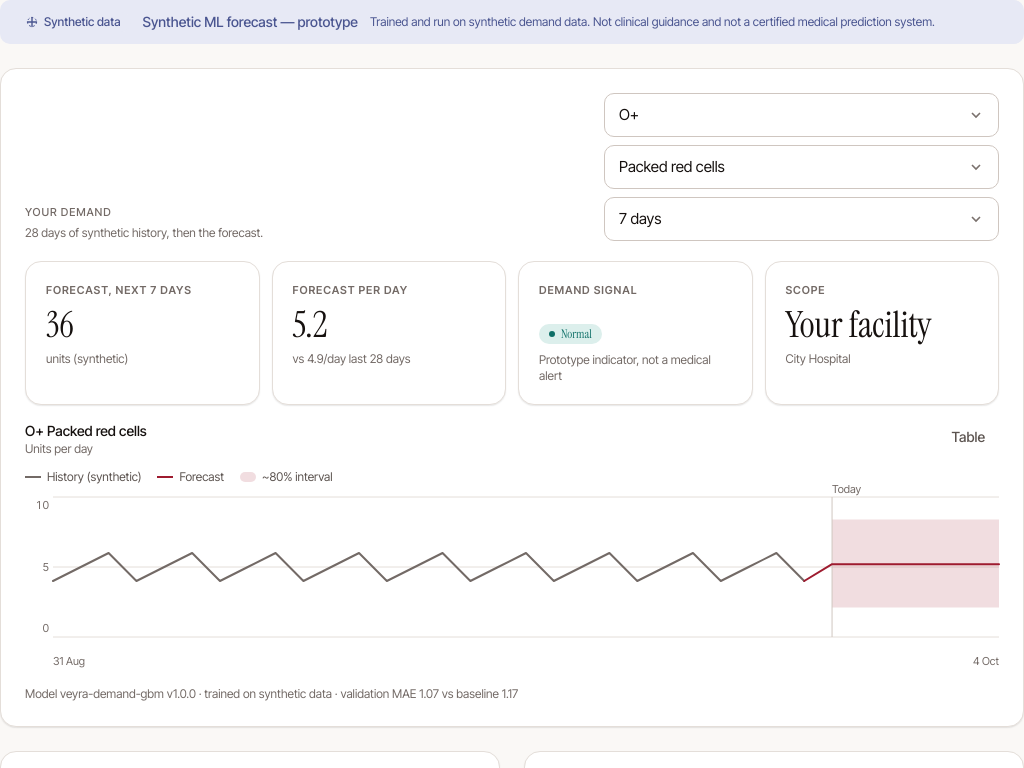
ForecastPanel › refetches when the horizon changes
Expected: the text with test id "model-label" is shown, [25,686,518,701]
Select "14 days" in the dropdown named "Forecast horizon" at point(802, 219), box [604,197,999,241]
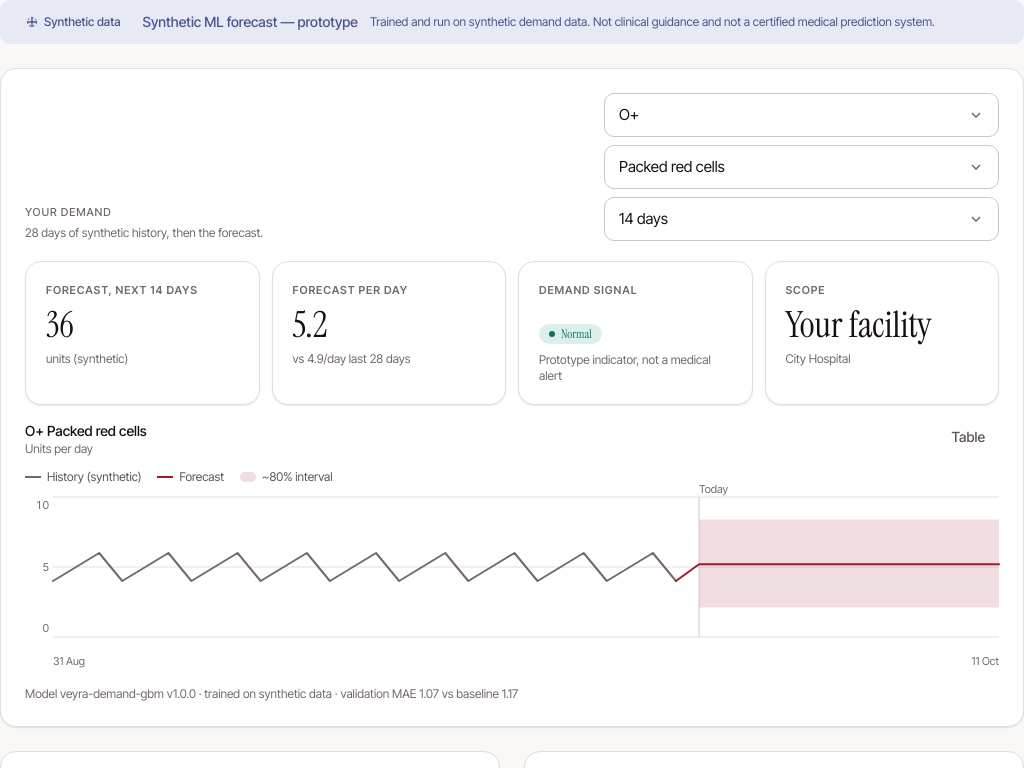
Now the text "Forecast, next 14 days" is shown, box [46,283,198,297]
